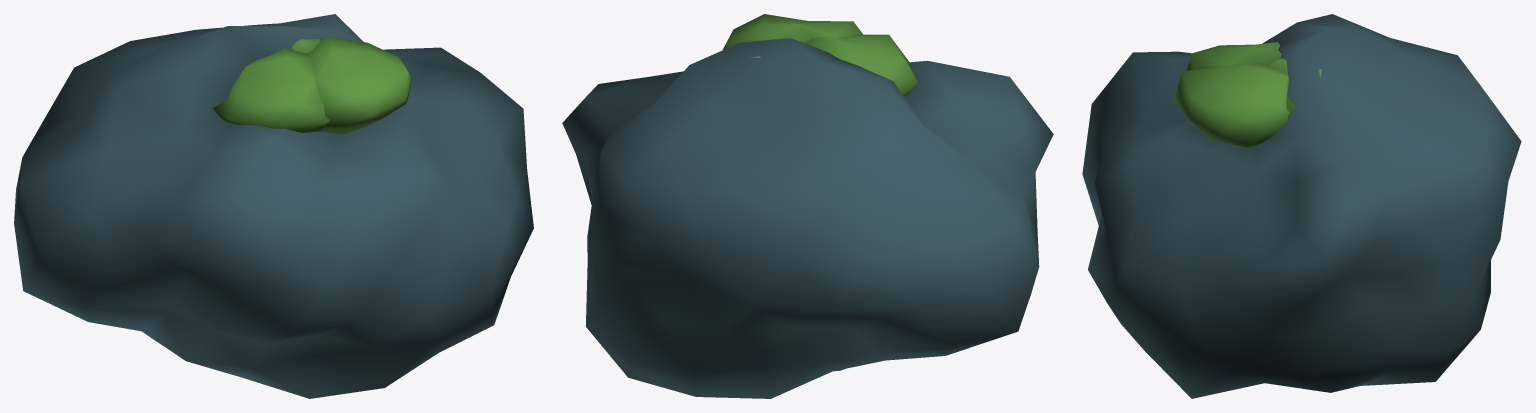
Rendered from rock_b.glb.
The picture shows the model from 3 angles, left to right: view 1: azimuth 30°, elevation 25°; view 2: azimuth 150°, elevation 25°; view 3: azimuth 270°, elevation 25°; orthographic projection. The views are drawn at different scales.
Visible parts, largest first — view 1: rock_b_mesh; view 2: rock_b_mesh; view 3: rock_b_mesh.
Part boxes in pixels (x1,y1,x2,y2): rock_b_mesh: [14, 14, 533, 398]; rock_b_mesh: [562, 14, 1053, 398]; rock_b_mesh: [1082, 14, 1521, 398].
Size of the model in its own units: 1.8 by 1.21 by 1.54.
